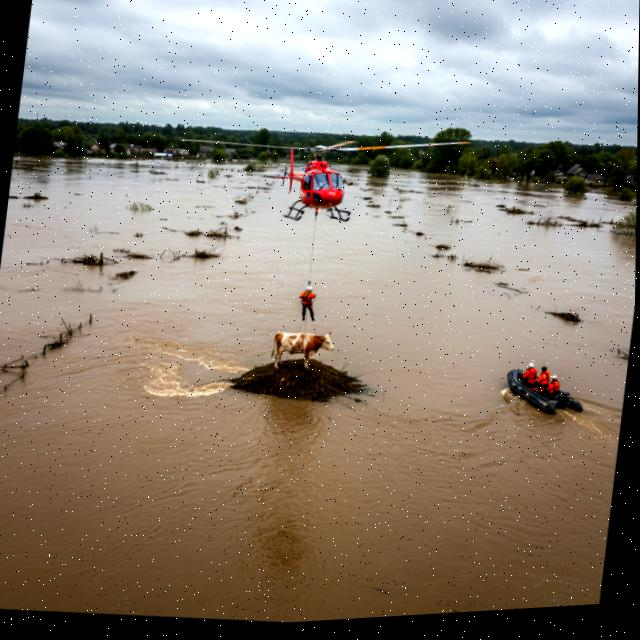cow: (249, 312, 348, 382)
rescuer: (294, 278, 325, 325), (522, 358, 542, 390), (545, 368, 562, 405), (536, 364, 550, 398)
